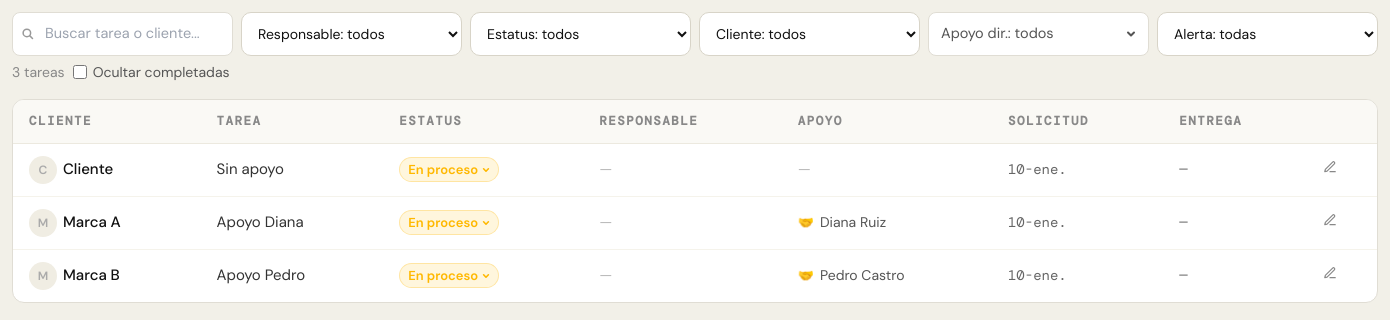
it: BaseView — filtro de apoyo de dirección › abre el dropdown con usuarios de access_level >= 3
The image size is (1390, 320).
Click the button "Apoyo dir.: todos". click: (1038, 34)
box: [928, 12, 1149, 56]
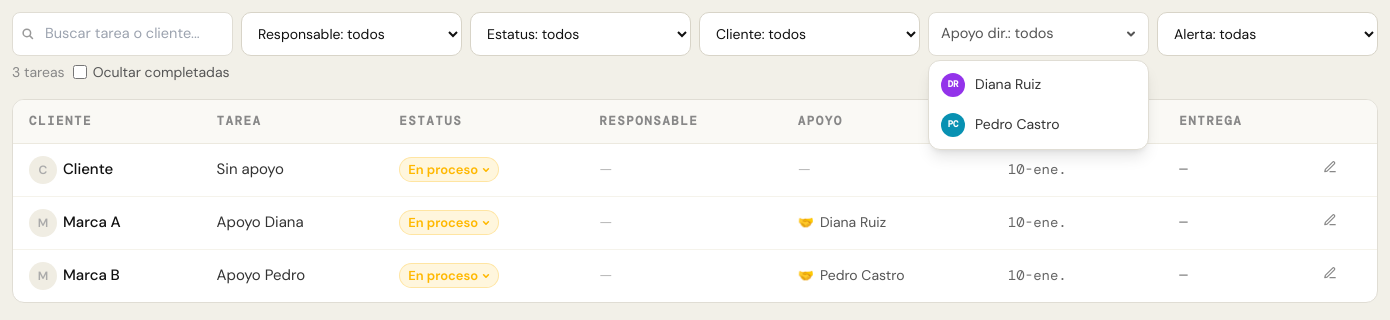
Check: the text "Diana Ruiz" in the row of "Ocultar completadas" is shown, box [975, 75, 1041, 93]
Check: the 1st text "Pedro Castro" is shown, box [975, 115, 1060, 133]
